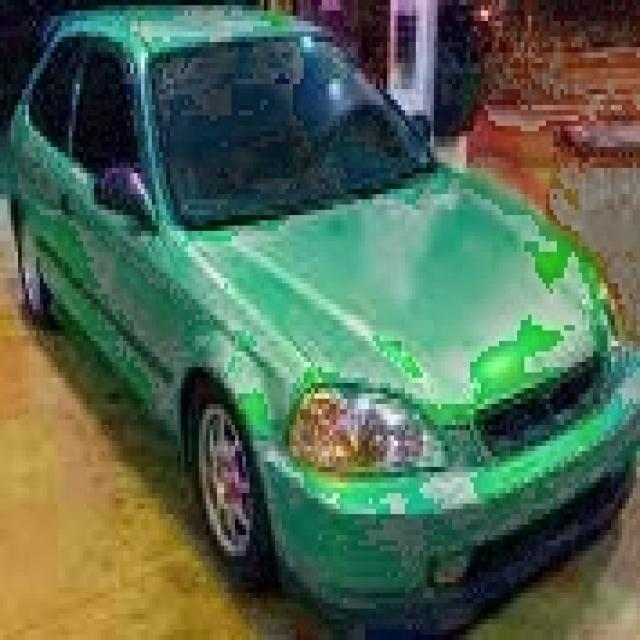green: (11, 10, 640, 635)
